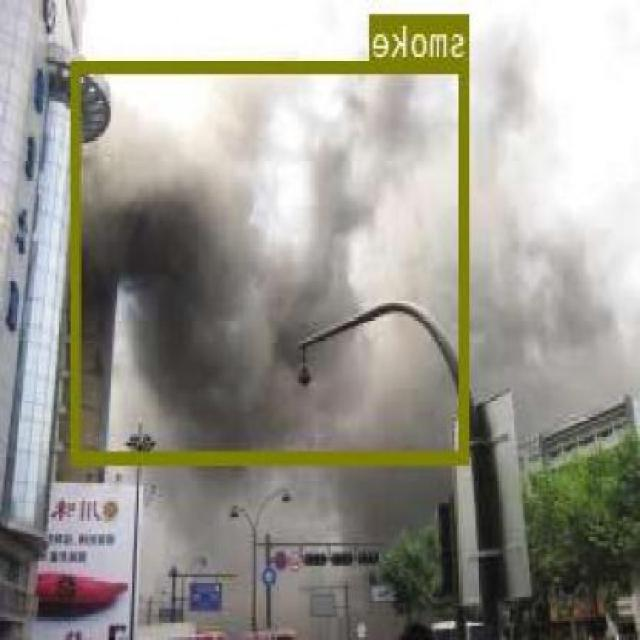Smoke: (74, 58, 471, 460), (491, 234, 615, 405), (148, 472, 224, 558), (324, 474, 426, 530)
